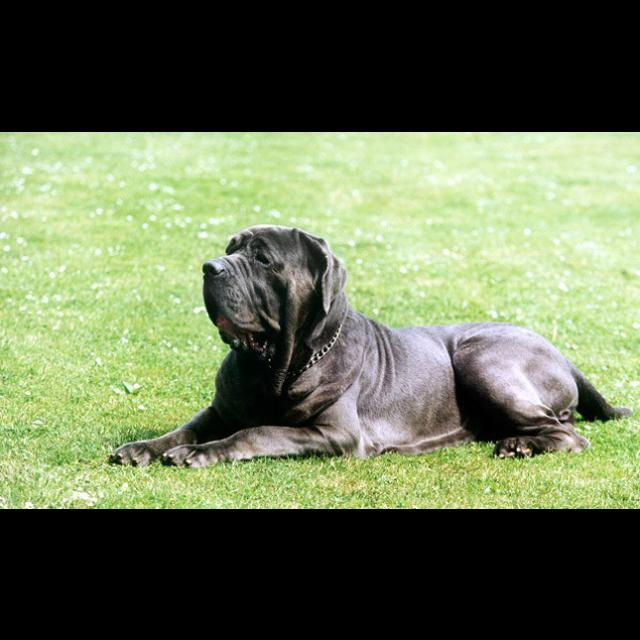mastino_napoletano: (110, 223, 633, 469)
